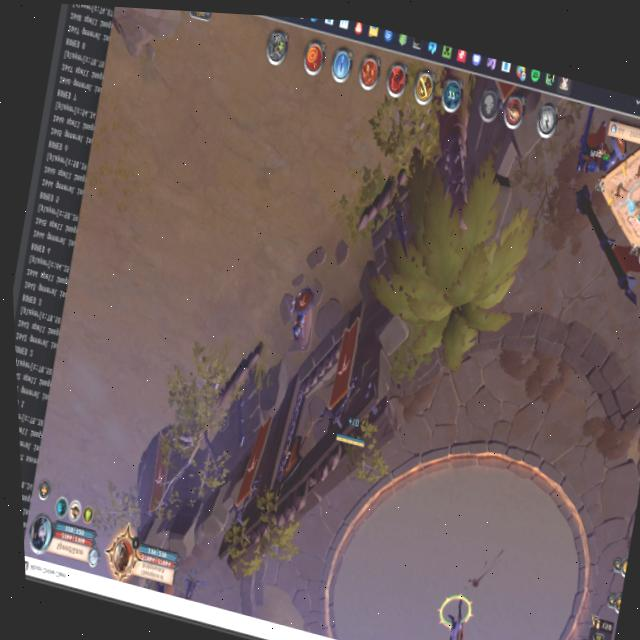red: (333, 421, 370, 454)
